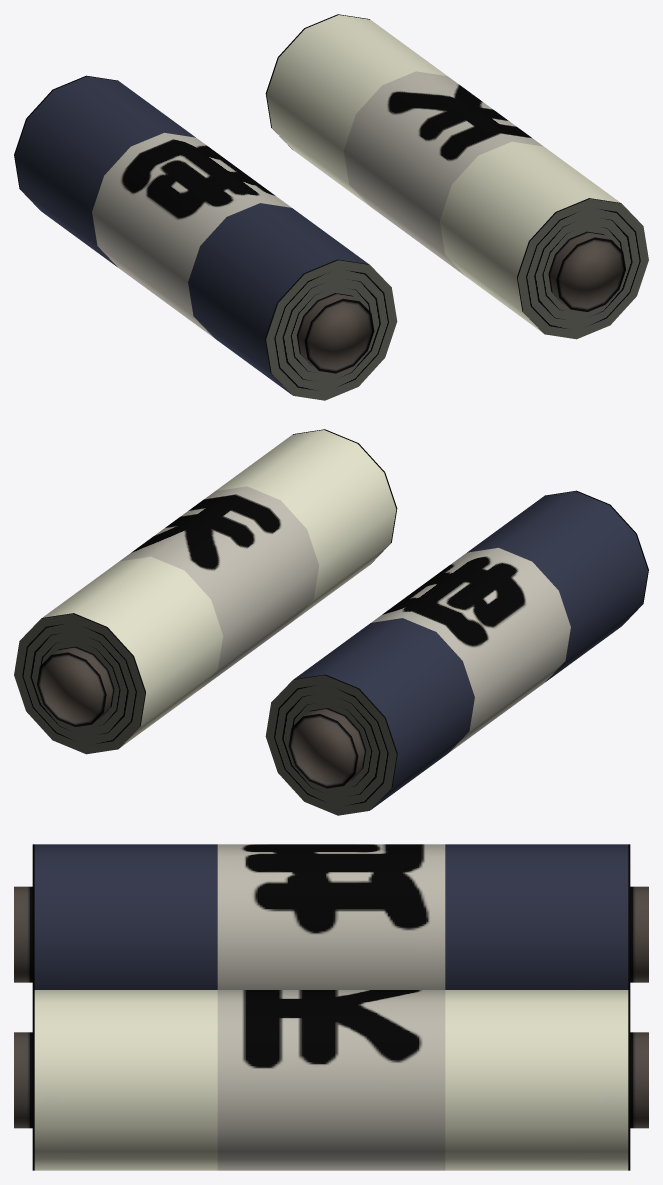
Rendered from Pergaminos.fbx.
The picture shows the model from 3 angles, top to bottom: view 1: azimuth 30°, elevation 25°; view 2: azimuth 150°, elevation 25°; view 3: azimuth 270°, elevation 25°; orthographic projection. The views are drawn at different scales.
Visible parts, largest first — view 1: Pergamino01, Pergamino02; view 2: Pergamino01, Pergamino02; view 3: Pergamino01, Pergamino02.
Part boxes in pixels (left/top/right/bottom): Pergamino01: left=265, top=14, right=648, bottom=339; Pergamino02: left=14, top=75, right=397, bottom=400; Pergamino01: left=14, top=429, right=397, bottom=754; Pergamino02: left=265, top=490, right=648, bottom=815; Pergamino01: left=14, top=990, right=648, bottom=1170; Pergamino02: left=14, top=844, right=648, bottom=989.
Size of the model in its own units: 20.34 by 6.97 by 24.63.
2 materials, 2 textured.
